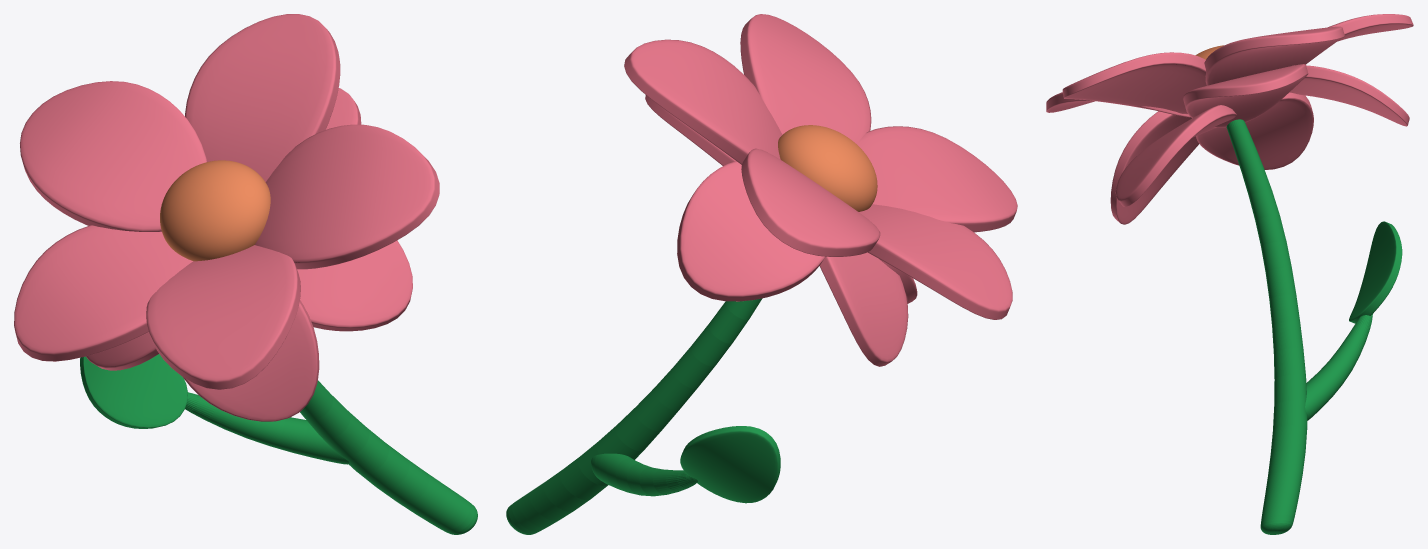
Rendered from flower-3d-animated-icon-158906452725.glb.
3 renders of one model, left to right at view 1: azimuth 30°, elevation 25°; view 2: azimuth 150°, elevation 25°; view 3: azimuth 270°, elevation 25°, orthographic. The views are drawn at different scales.
Visible parts, largest first — view 1: leaf.003, leaf.001, leaf, leaf.002, leaf.004, trunk, stamen, leaf.007, leaf.009, leaf.010, leaf.008, leaf.006; view 2: trunk, leaf.005, leaf, leaf.002, leaf.001, leaf.004, leaf.003, leaf.008, leaf.010, stamen, leaf.006; view 3: trunk, leaf.001, leaf, leaf.008, leaf.006, leaf.007, leaf.009, leaf.005, leaf.010, leaf.003, leaf.002.
Part boxes in pixels (<box>): leaf.003: <box>20,81,206,231</box>; leaf.001: <box>255,124,439,269</box>; leaf: <box>185,14,340,181</box>; leaf.002: <box>146,245,300,389</box>; leaf.004: <box>14,225,192,361</box>; trunk: <box>185,380,477,534</box>; stamen: <box>160,160,270,261</box>; leaf.007: <box>297,240,412,331</box>; leaf.009: <box>183,300,319,421</box>; leaf.010: <box>80,354,187,428</box>; leaf.008: <box>86,332,158,370</box>; leaf.006: <box>325,88,361,129</box>; trunk: <box>506,298,762,534</box>; leaf.005: <box>677,161,825,301</box>; leaf: <box>624,39,782,164</box>; leaf.002: <box>857,126,1017,232</box>; leaf.001: <box>740,14,871,143</box>; leaf.004: <box>859,204,1012,319</box>; leaf.003: <box>741,148,880,256</box>; leaf.008: <box>819,252,908,366</box>; leaf.010: <box>680,426,780,503</box>; stamen: <box>778,125,877,211</box>; leaf.006: <box>645,95,735,165</box>; trunk: <box>1226,119,1372,534</box>; leaf.001: <box>1062,52,1206,114</box>; leaf: <box>1204,26,1344,85</box>; leaf.008: <box>1196,92,1313,169</box>; leaf.006: <box>1183,64,1308,127</box>; leaf.007: <box>1115,105,1236,206</box>; leaf.009: <box>1110,111,1198,224</box>; leaf.005: <box>1289,65,1409,126</box>; leaf.010: <box>1349,221,1402,323</box>; leaf.003: <box>1327,14,1413,41</box>; leaf.002: <box>1046,92,1190,117</box>.
Bounding box in the file's own units: 2.74 × 2.91 × 2.16.
